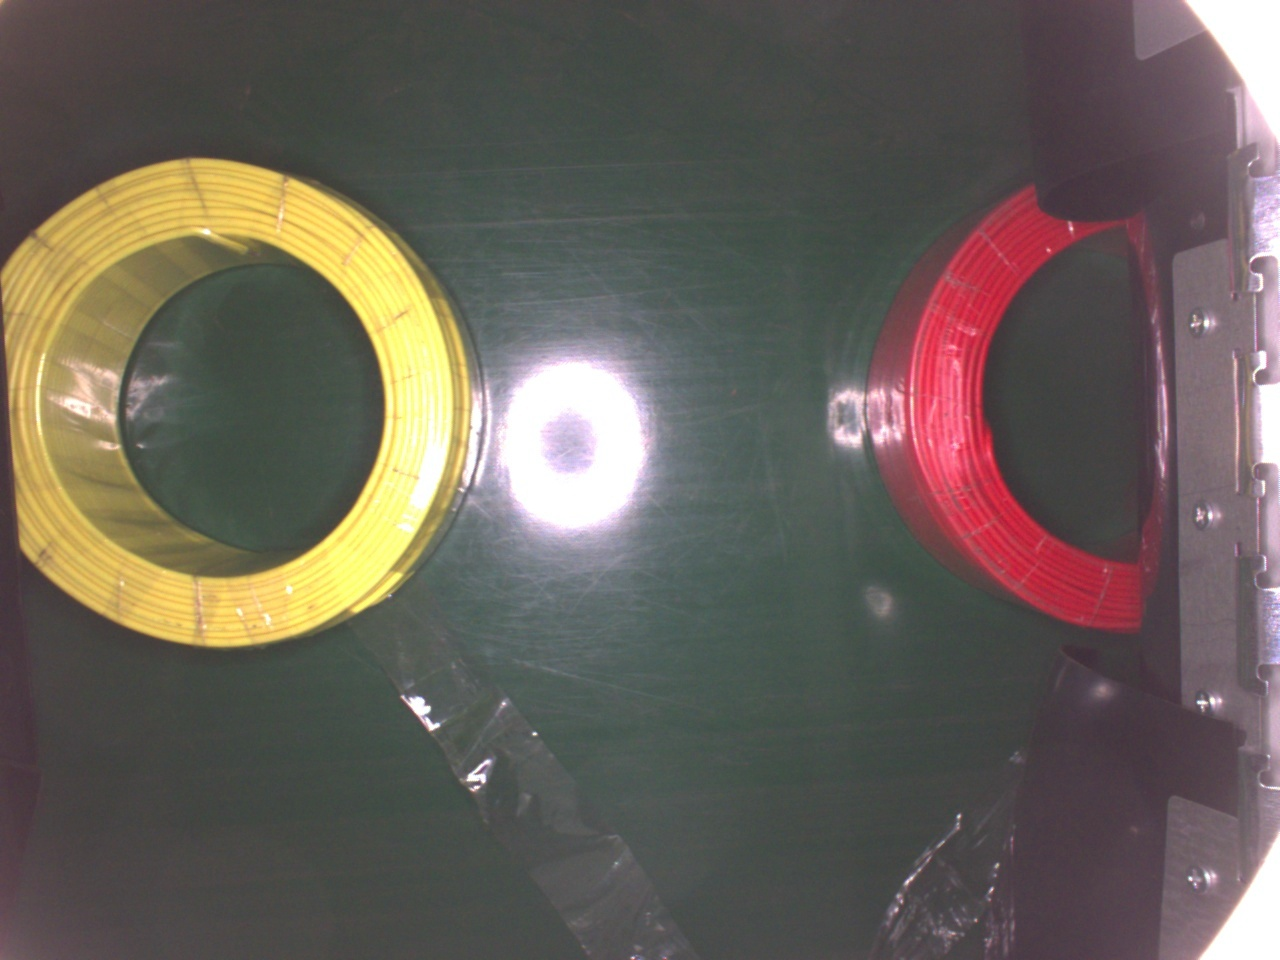red: (861, 176, 1143, 634)
yellow: (10, 149, 481, 655)
